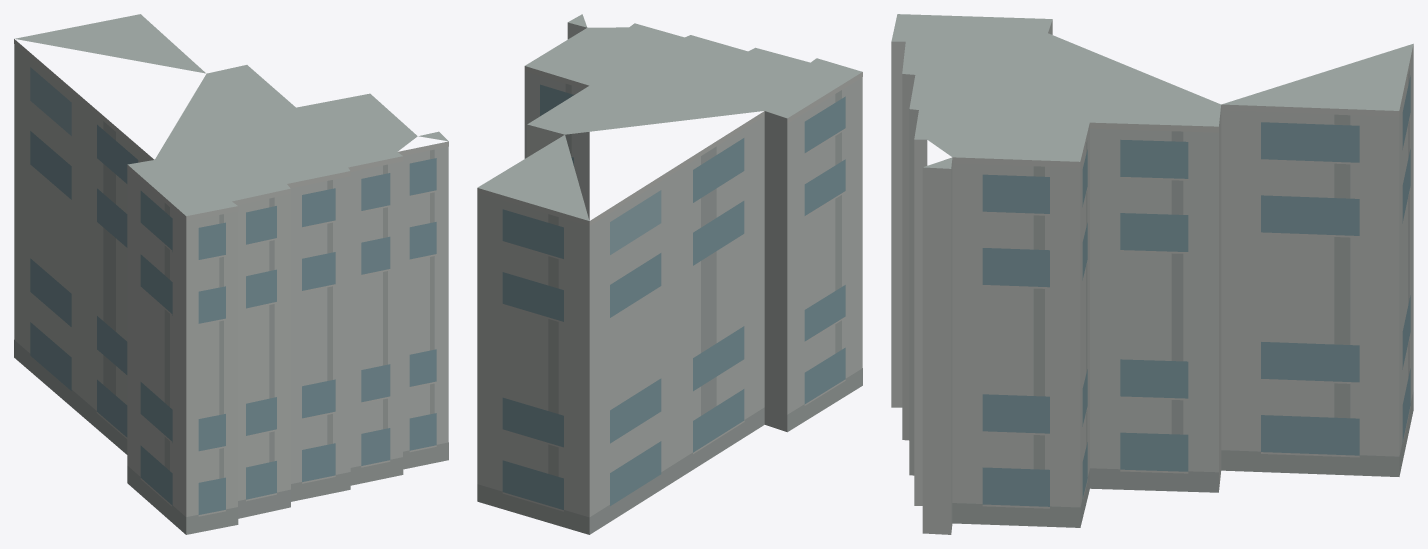
The model's file is survey-upis-32993440.glb.
3 views of the same model, side by side, from view 1: azimuth 30°, elevation 25°; view 2: azimuth 150°, elevation 25°; view 3: azimuth 270°, elevation 25° (orthographic). The views are drawn at different scales.
Parts seen in each view (by area): view 1: survey-upis-32993440.tmp; view 2: survey-upis-32993440.tmp; view 3: survey-upis-32993440.tmp.
Part boxes in pixels (left/top/right/bottom): survey-upis-32993440.tmp: left=14, top=14, right=448, bottom=534; survey-upis-32993440.tmp: left=477, top=14, right=862, bottom=534; survey-upis-32993440.tmp: left=891, top=14, right=1413, bottom=534.
Size of the model in its own units: 13.41 by 14.78 by 19.12.
